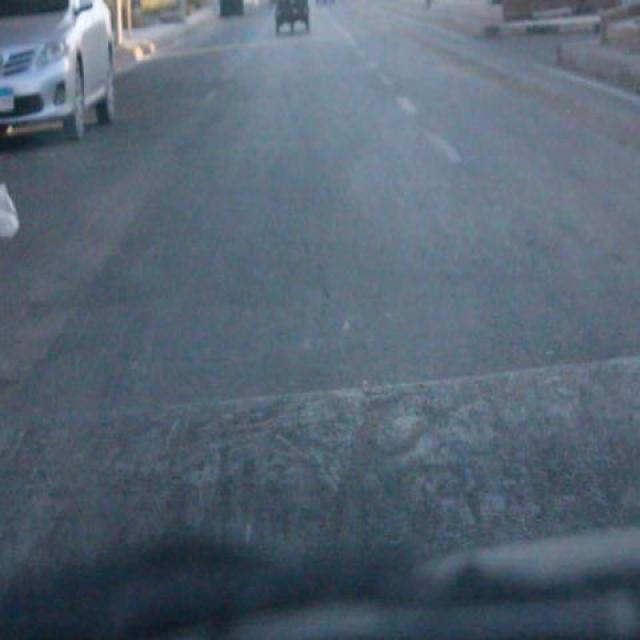Unmarked Bump: (0, 348, 640, 542)
